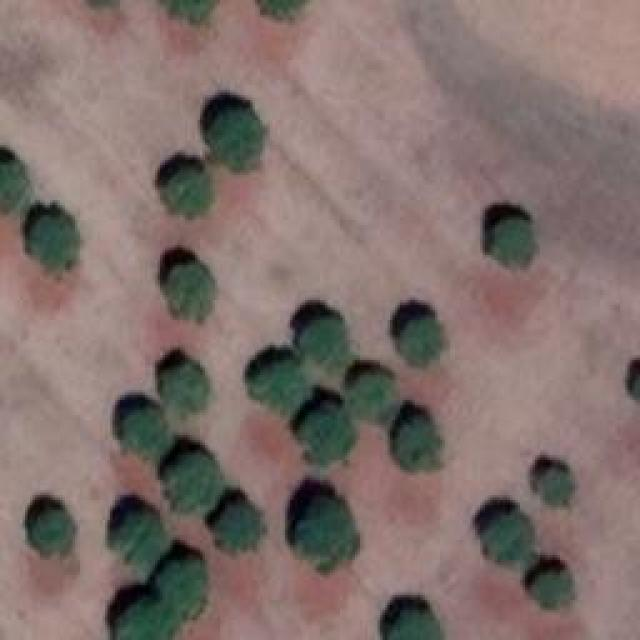Tree: (160, 448, 223, 513), (18, 210, 81, 275), (155, 558, 215, 623), (298, 398, 353, 463), (298, 493, 353, 558), (483, 510, 543, 565), (485, 215, 540, 273), (213, 107, 266, 165), (118, 405, 171, 460), (165, 263, 218, 318), (212, 497, 260, 555), (160, 160, 210, 215), (253, 358, 303, 413), (298, 315, 348, 368), (395, 415, 443, 470), (347, 373, 395, 423), (113, 513, 158, 566), (395, 313, 438, 368), (115, 600, 170, 640), (163, 365, 208, 413), (33, 510, 76, 558), (385, 607, 442, 640), (525, 568, 568, 608), (532, 468, 570, 501), (0, 162, 25, 210), (165, 0, 218, 20), (257, 0, 305, 20)
